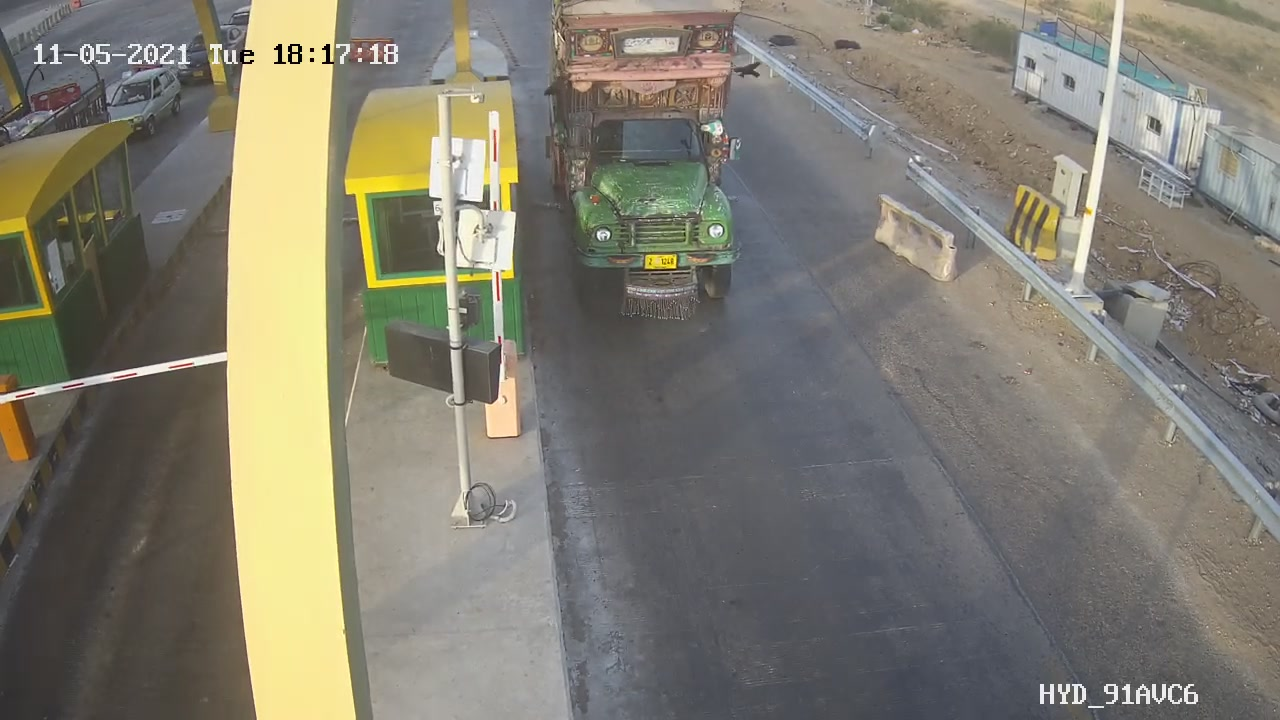F5: (536, 7, 781, 329)
